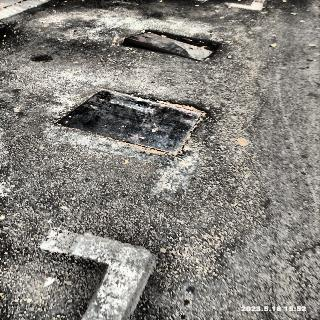pothole: (122, 28, 224, 64)
